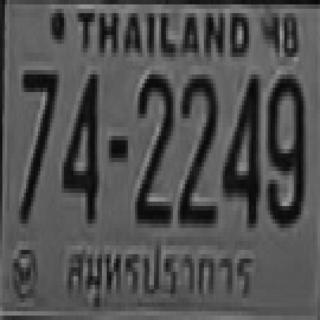N02: (177, 70, 217, 224), (135, 70, 171, 224)
N04: (220, 70, 258, 224), (61, 70, 98, 219)
N07: (19, 66, 57, 219)
N09: (266, 70, 304, 224)
P57: (58, 232, 261, 315)
